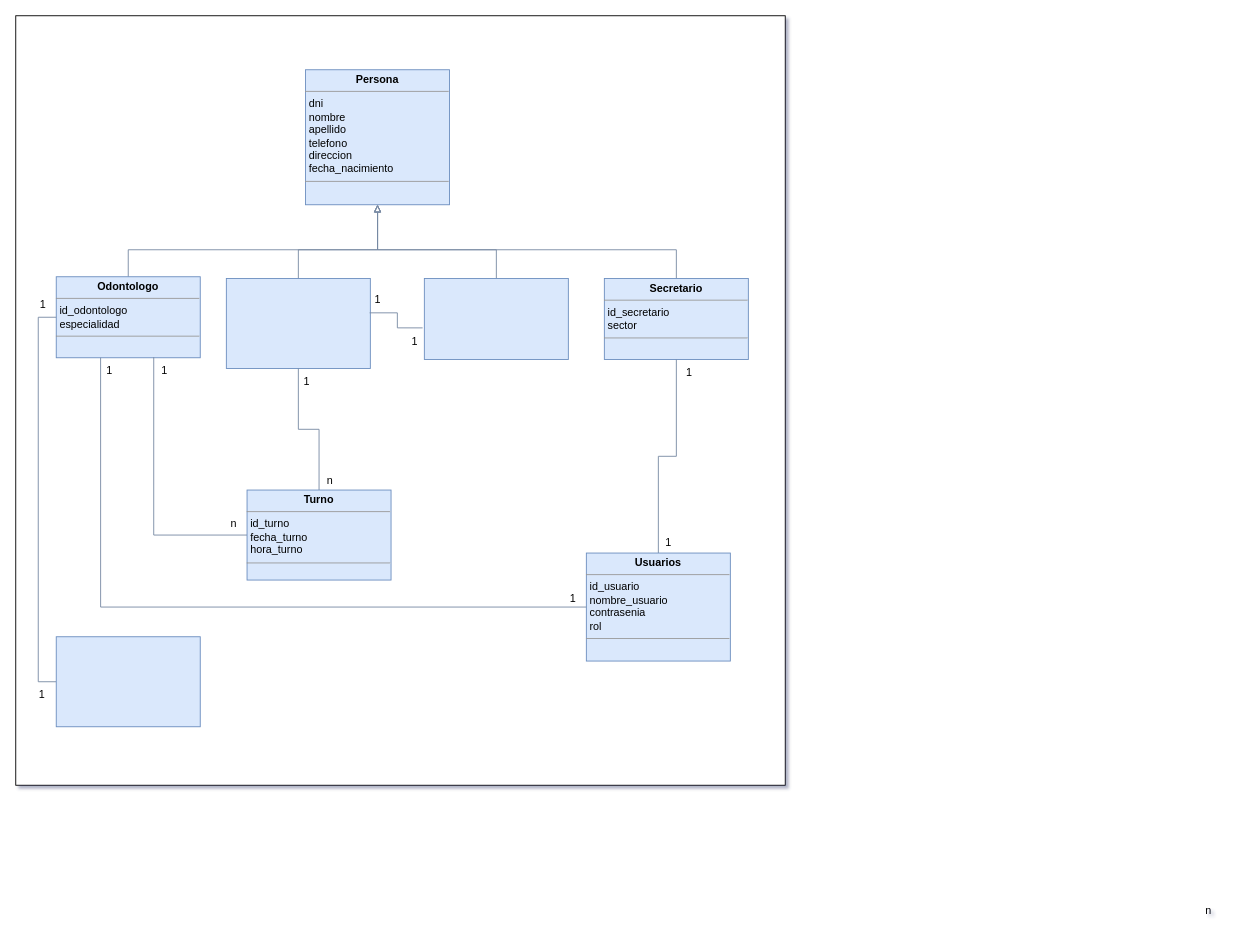
Image size: 1243x946. Some labels were removed from this diagram. The centre of each missing label's shape, as x and y in pixels:
Horario id_horario horario_inicio horario_fin: (x=127, y=681)
Paciente id_paciente tieneSeguro tipo_sangre: (x=297, y=323)
Responsable id_responsable tipo_responsabilidad: (x=495, y=319)
